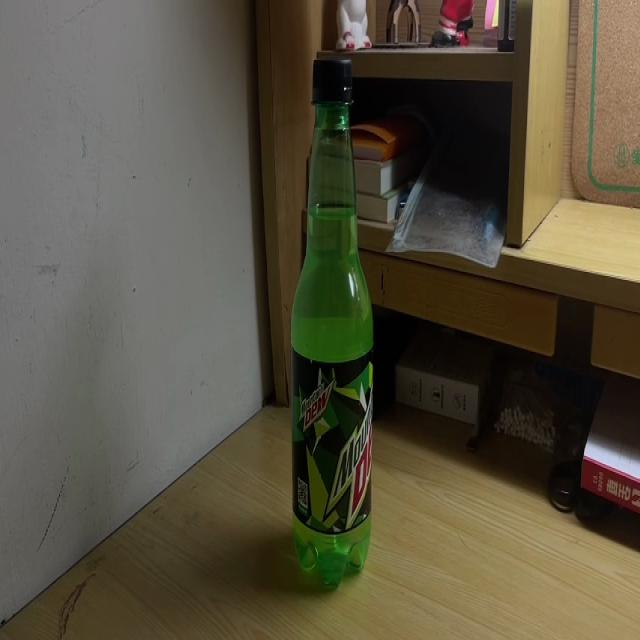Mountain-Dew: (290, 52, 375, 592)
